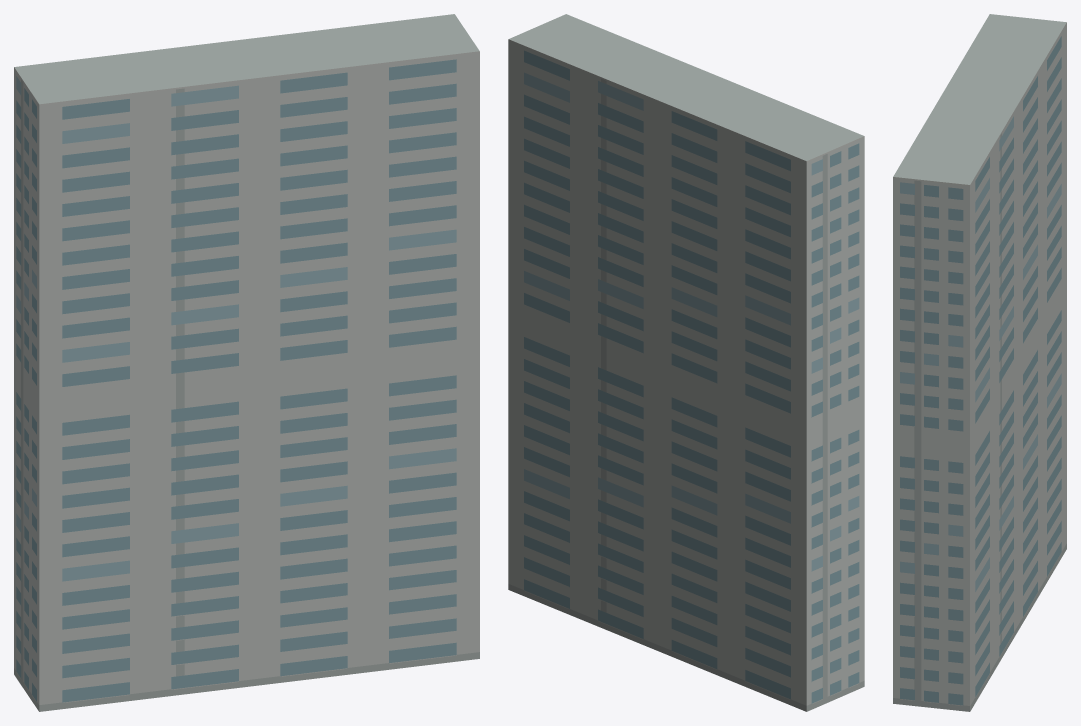
File: residential-4801d436-7004-459a-a241-9365673ec217.glb
3 views of the same model, side by side, from view 1: azimuth 30°, elevation 25°; view 2: azimuth 150°, elevation 25°; view 3: azimuth 270°, elevation 25° (orthographic). The views are drawn at different scales.
Visible parts, largest first — view 1: residential-4801d436-7004-459a-a241-9365673ec217.tmp; view 2: residential-4801d436-7004-459a-a241-9365673ec217.tmp; view 3: residential-4801d436-7004-459a-a241-9365673ec217.tmp.
Part boxes in pixels (left/top/right/bottom): residential-4801d436-7004-459a-a241-9365673ec217.tmp: left=14, top=14, right=479, bottom=711; residential-4801d436-7004-459a-a241-9365673ec217.tmp: left=508, top=14, right=864, bottom=711; residential-4801d436-7004-459a-a241-9365673ec217.tmp: left=893, top=14, right=1066, bottom=711.
Bounding box in the file's own units: 62.66 × 90 × 26.91.
